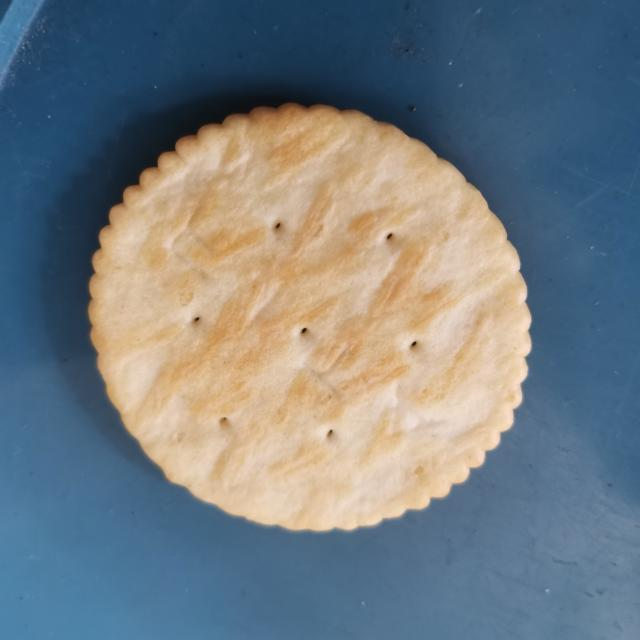Intact: (72, 93, 541, 542)
